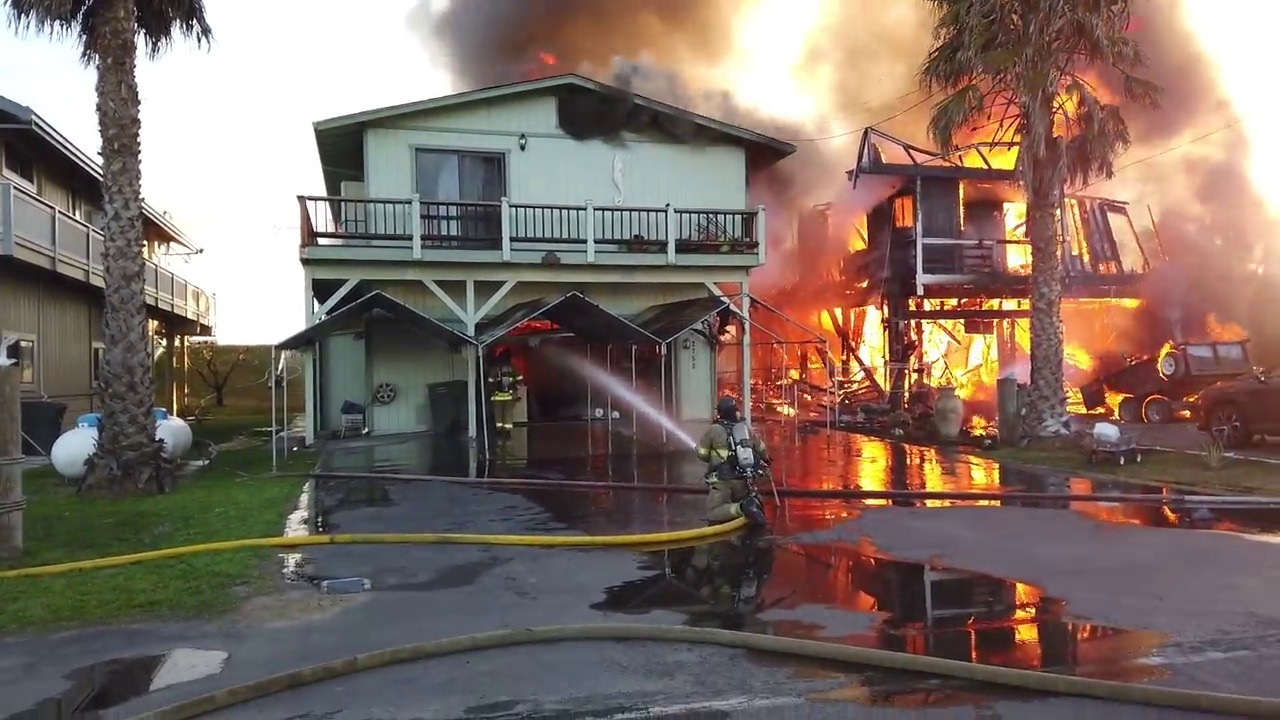fire: (1058, 291, 1217, 421), (1137, 1, 1279, 117), (814, 218, 884, 388), (916, 313, 990, 392), (947, 99, 1024, 168), (1000, 198, 1032, 270), (1200, 309, 1251, 345), (1061, 201, 1089, 260), (1061, 334, 1096, 374), (497, 343, 529, 376), (890, 195, 917, 232), (954, 180, 969, 231), (968, 410, 995, 432), (516, 320, 556, 334), (538, 45, 559, 68), (141, 238, 154, 262)
smoke: (401, 1, 721, 141), (1133, 118, 1279, 333), (719, 1, 929, 122), (765, 169, 911, 223), (812, 306, 884, 393), (763, 122, 869, 169), (763, 232, 812, 292), (994, 299, 1028, 363), (1250, 338, 1278, 369), (993, 363, 1030, 385)
